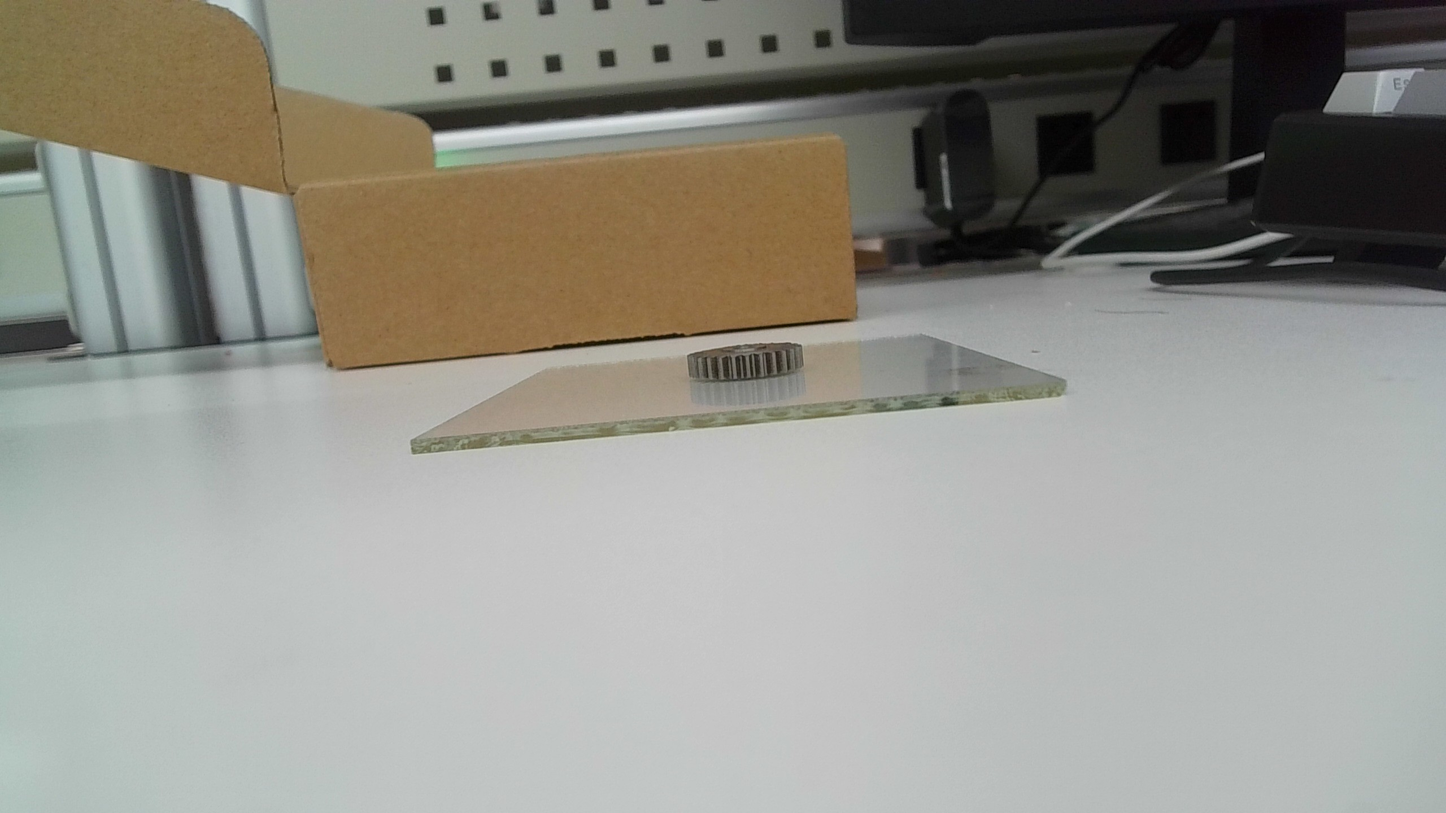gear: (685, 342, 805, 384)
